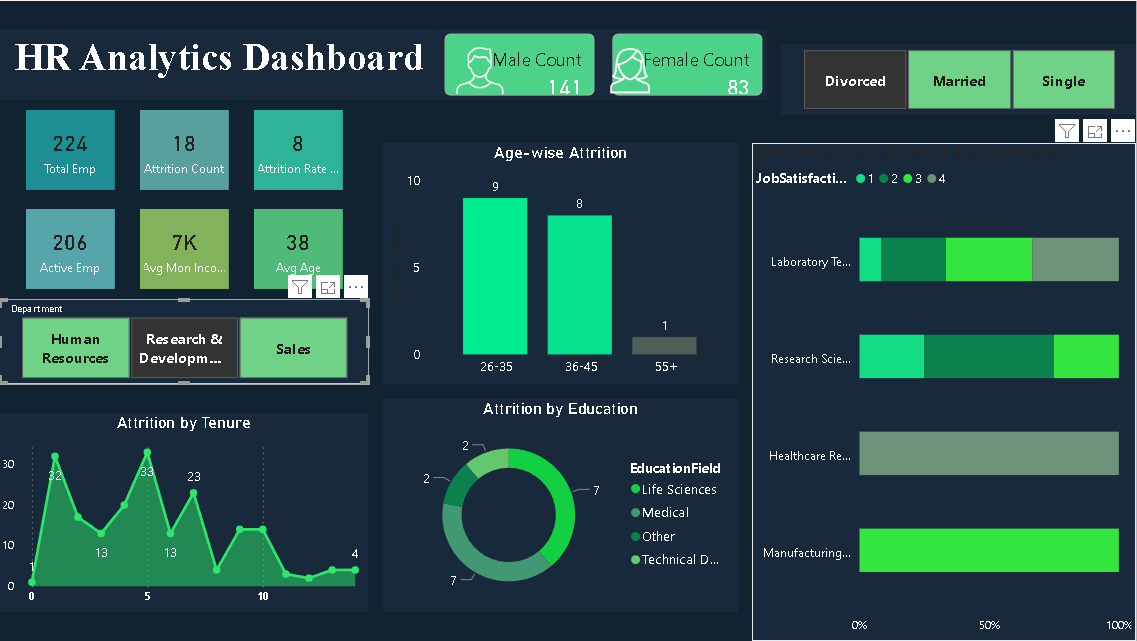

The page's visual inventory and layout, read from the dashboard file:
{"tool":"powerbi","page":{"name":"Page 1","canvas":[1280,720],"ordinal":0},"visuals":[{"type":"card","fields":{"Values":["Measures-.Total Employees"]},"box":[30.7,122.7,100,90],"z":0},{"type":"slicer","fields":{"Values":["HR_Analytics.Department"]},"box":[0,336,416,96],"z":0,"group":"g1"},{"type":"slicer","fields":{"Values":["HR_Analytics.MaritalStatus"]},"box":[880,48,400,80],"z":1000},{"type":"card","fields":{"Values":["Measures-.Attrition Count"]},"box":[158.7,122.7,100,90],"z":2000},{"type":"card","fields":{"Values":["Measures-.Active Employees"]},"box":[30.7,234.7,100,90],"z":3000},{"type":"card","fields":{"Values":["Measures-.Attrition Rate %"]},"box":[286.7,122.7,100,90],"z":4000},{"type":"card","fields":{"Values":["Measures-.Avg Monthly Income"]},"box":[158.7,234.7,100,90],"z":5000},{"type":"areaChart","title":"Attrition by Tenure","fields":{"Y":["CountNonNull(HR_Analytics.Attrition)"],"Category":["HR_Analytics.YearsAtCompany"]},"box":[0,464,416,224],"z":6000},{"type":"donutChart","title":"Attrition by Education","fields":{"Y":["Measures-.Attrition Count"],"Series":["HR_Analytics.EducationField"]},"box":[432,448,400,240],"z":7000},{"type":"clusteredColumnChart","title":"Age-wise Attrition","fields":{"Category":["HR_Analytics.AgeGroup"],"Y":["Measures-.Attrition Count"]},"box":[432,160,400,272],"z":8000},{"type":"hundredPercentStackedBarChart","fields":{"Y":["Measures-.Attrition Count"],"Category":["HR_Analytics.JobRole"],"Series":["HR_Analytics.JobSatisfaction"]},"box":[848,160,432,560],"z":9000},{"type":"card","fields":{"Values":["Measures-.Avg Age"]},"box":[286.7,234.7,100,90],"z":10000},{"type":"cardVisual","fields":{"Data":["Measures-.Male Count","Measures-.Female Count"]},"box":[496,32,368,80],"z":11000,"group":"g2"},{"type":"group","id":"g1","title":"Group 1","box":[0,336,416,96],"z":11000},{"type":"textbox","box":[0,32,496,80],"z":12000},{"type":"image","box":[508.3,45.3,65.2,66.7],"z":12000,"group":"g2"},{"type":"group","id":"g2","title":"Group 2","box":[496,32,368,80],"z":13000},{"type":"image","box":[680,45.3,61.3,66.7],"z":13000,"group":"g2"}]}

Visuals, with their boxes in screenshot pixels (x1, y1, x2, y2), scaled from the page's 1280x720 canvas onto the 1137x641 screenshot:
card - Measures-.Total Employees: BBox(27, 109, 116, 189)
slicer - HR_Analytics.Department: BBox(0, 299, 370, 385)
slicer - HR_Analytics.MaritalStatus: BBox(782, 43, 1136, 114)
card - Measures-.Attrition Count: BBox(141, 109, 230, 189)
card - Measures-.Active Employees: BBox(27, 209, 116, 289)
card - Measures-.Attrition Rate %: BBox(255, 109, 343, 189)
card - Measures-.Avg Monthly Income: BBox(141, 209, 230, 289)
"Attrition by Tenure" areaChart: BBox(0, 413, 370, 613)
"Attrition by Education" donutChart: BBox(384, 399, 739, 613)
"Age-wise Attrition" clusteredColumnChart: BBox(384, 142, 739, 385)
hundredPercentStackedBarChart - Measures-.Attrition Count x HR_Analytics.JobRole: BBox(753, 142, 1136, 640)
card - Measures-.Avg Age: BBox(255, 209, 343, 289)
cardVisual - Measures-.Male Count x Measures-.Female Count: BBox(441, 28, 767, 100)
"Group 1" group: BBox(0, 299, 370, 385)
textbox: BBox(0, 28, 441, 100)
image: BBox(452, 40, 509, 100)
"Group 2" group: BBox(441, 28, 767, 100)
image: BBox(604, 40, 658, 100)
